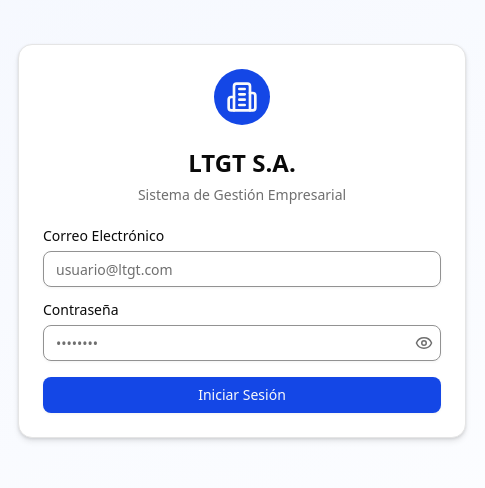
Test: LoginForm › validates the fields before calling the BFF
Type "admin" into the field labelled "Correo Electrónico".
click(242, 269); type("admin")  # box [43,251,441,287]
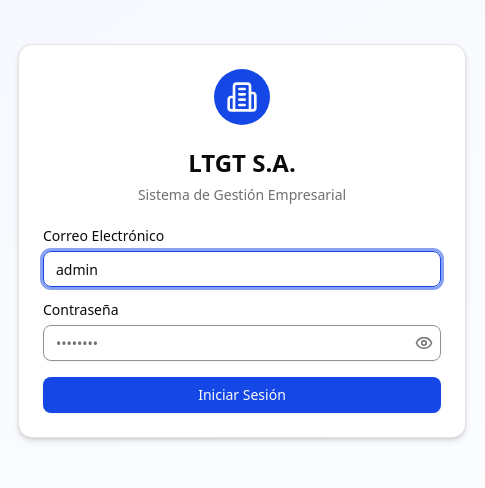
Type "123" into the password field labelled "Contraseña".
click(242, 343); type("123")  # box [43,325,441,361]
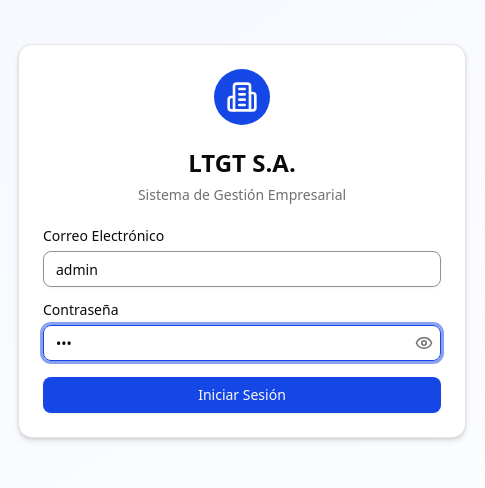
Click the button "Iniciar Sesión".
click(242, 395)  # box [43,377,441,413]
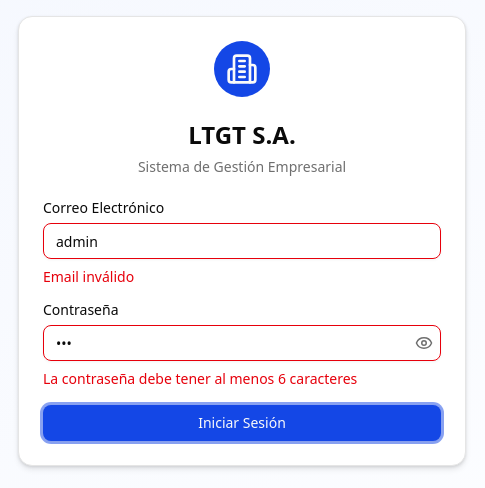
Expected: the text "Email inválido" is shown, [43,267,134,286]
Expected: the text "La contraseña debe tener al menos 6 caracteres" is shown, [43,369,357,388]
